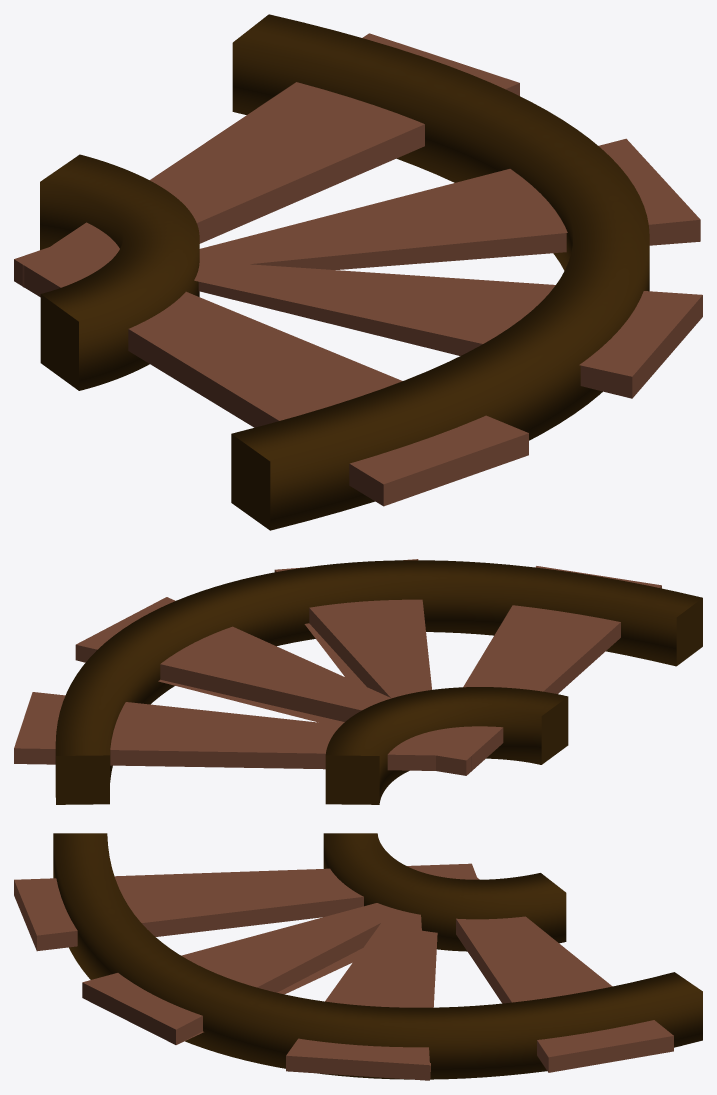
File: Rails_sharp_turn.fbx
3 renders of one model, top to bottom at view 1: azimuth 30°, elevation 25°; view 2: azimuth 150°, elevation 25°; view 3: azimuth 270°, elevation 25°, orthographic. The views are drawn at different scales.
Visible parts, largest first — view 1: Planks, Rails; view 2: Rails, Planks; view 3: Planks, Rails.
Boxes of the visible parts, x1=… form: Planks: x1=14, y1=33, x2=702, y2=506; Rails: x1=40, y1=14, x2=649, y2=530; Rails: x1=55, y1=560, x2=702, y2=804; Planks: x1=14, y1=559, x2=661, y2=775; Planks: x1=14, y1=863, x2=673, y2=1080; Rails: x1=53, y1=833, x2=702, y2=1079.
Size of the model in its own units: 94.21 by 10 by 127.
